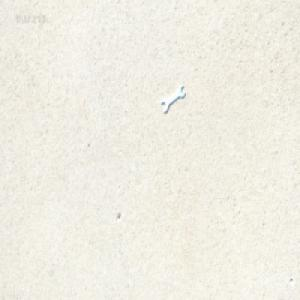Wrench: (162, 86, 186, 114)
